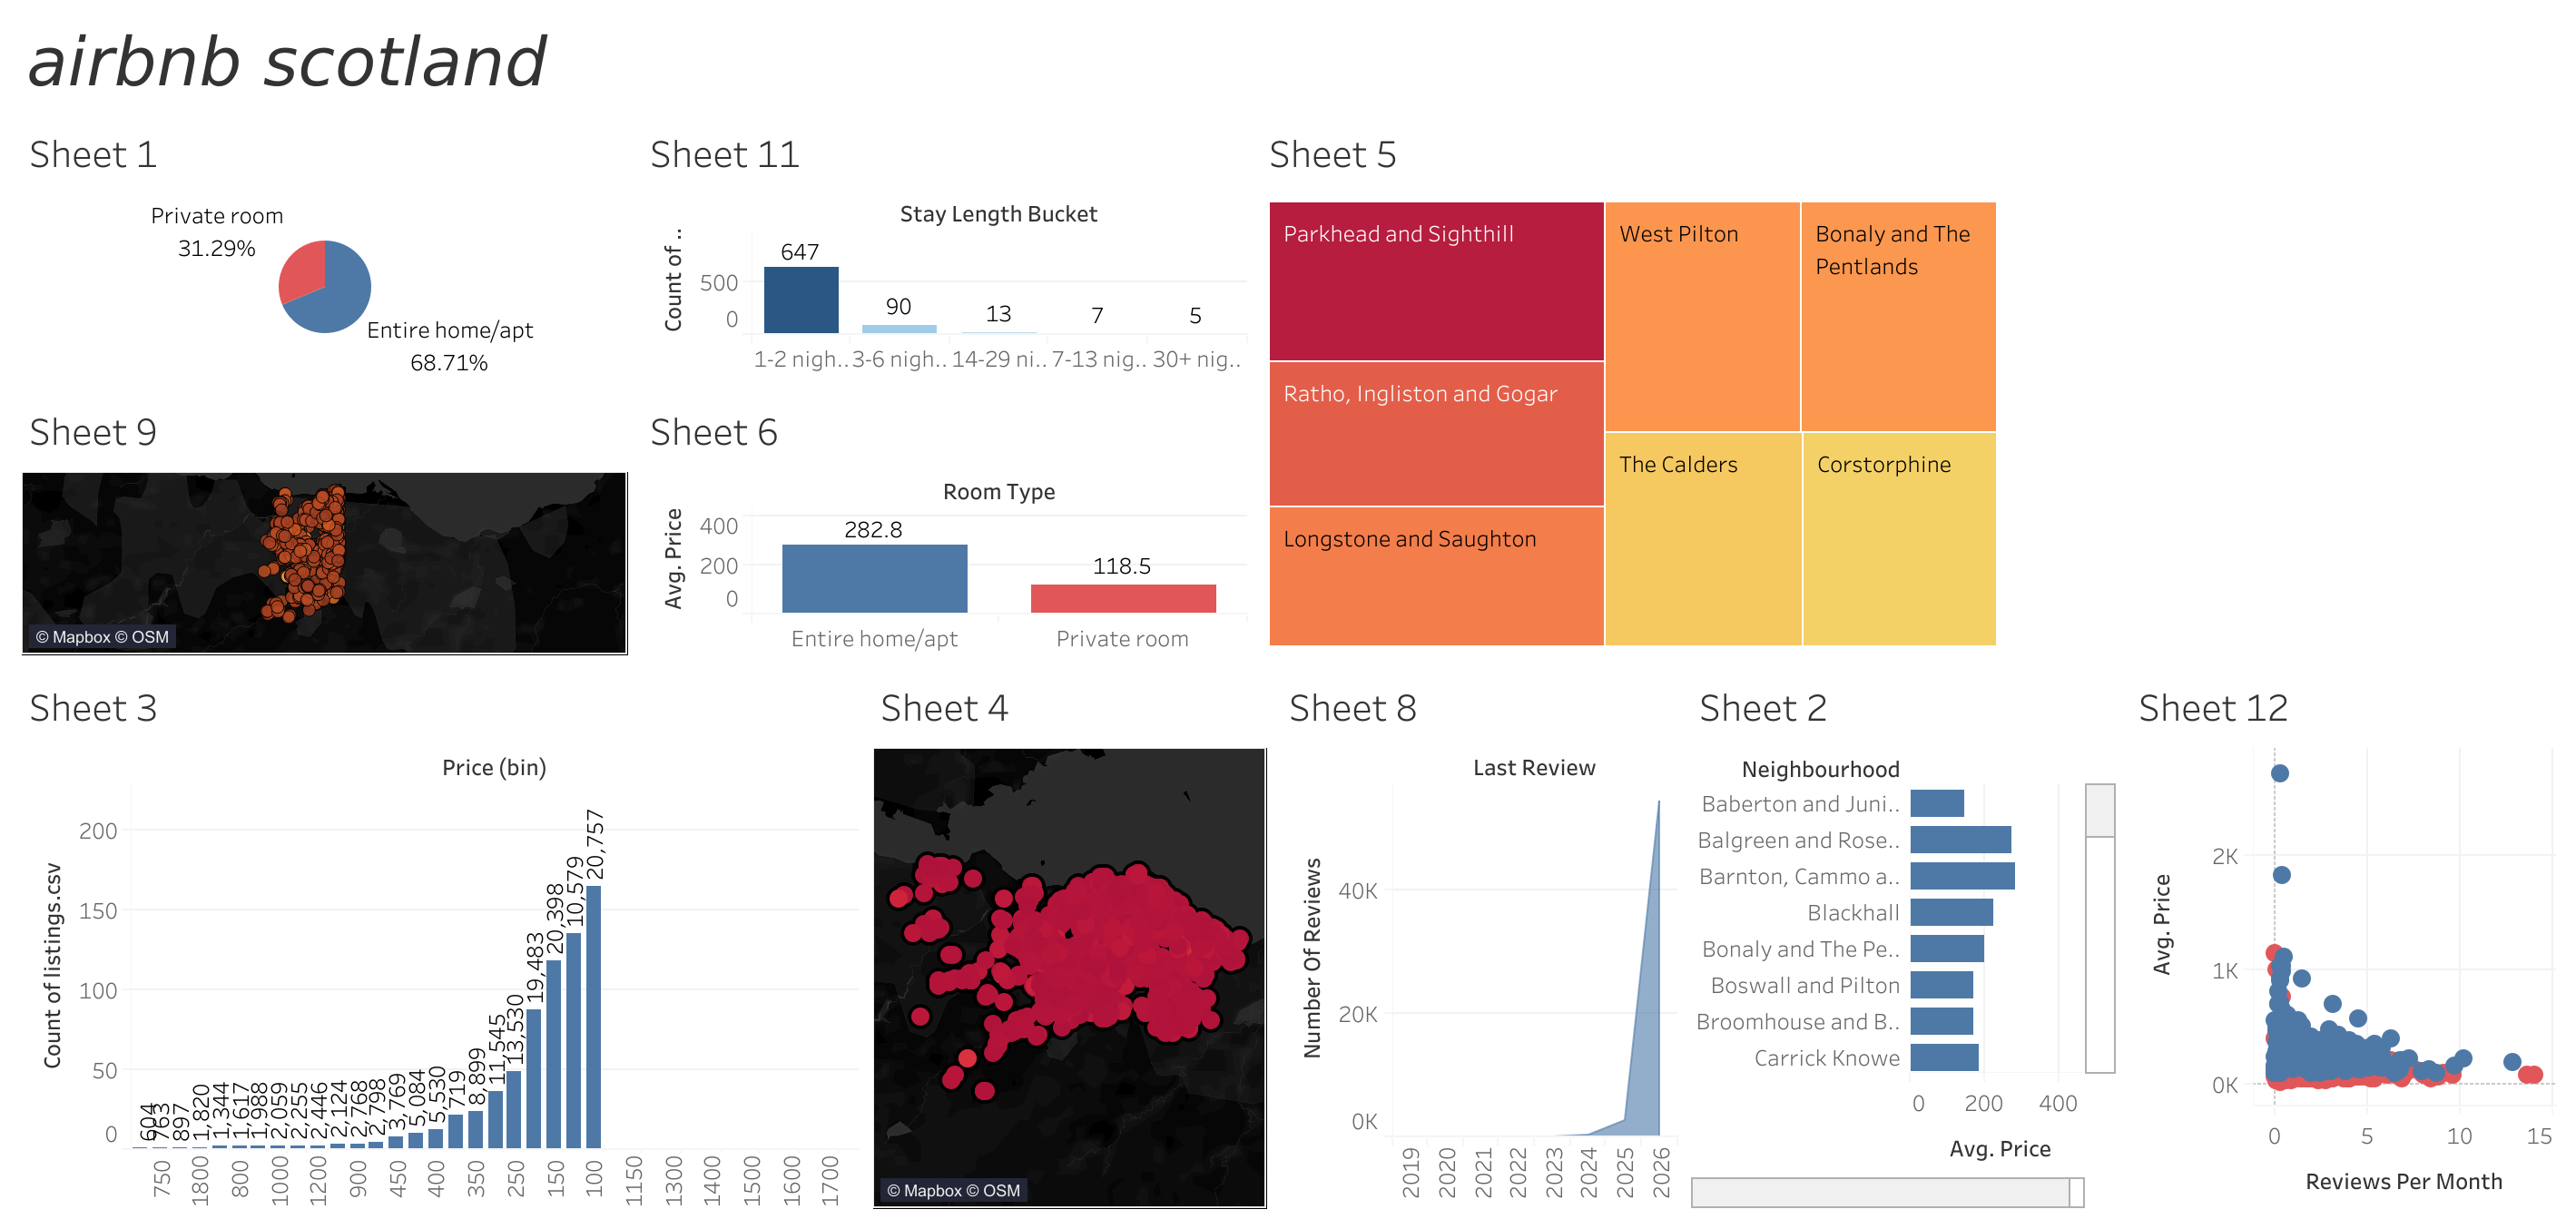

This screenshot's page, from the dashboard's own definition file:
{"tool":"tableau","page":{"name":"Dashboard 1","canvas":[1000,1000],"units":"permille","ordinal":0},"visuals":[{"type":"title","box":[6.3,11.2,987.3,76.9]},{"type":"worksheet","title":"Sheet 1","mark":"Pie","box":[6.3,88.1,240.2,225.5]},{"type":"worksheet","title":"Sheet 11","mark":"Bar","rows":["listings.csv_67D59B2A57524ACBAFB9F87328F039D5"],"cols":["Calculation_1489322259001354"],"box":[246.6,88.1,240.2,225.5]},{"type":"worksheet","title":"Sheet 5","mark":"Automatic","box":[486.8,88.1,506.9,451]},{"type":"worksheet","title":"Sheet 9","mark":"Multipolygon","rows":["latitude"],"cols":["longitude"],"box":[6.3,313.6,240.2,225.5]},{"type":"worksheet","title":"Sheet 6","mark":"Automatic","rows":["price"],"cols":["room_type"],"box":[246.6,313.6,240.2,225.5]},{"type":"worksheet","title":"Sheet 3","mark":"Bar","rows":["listings.csv_67D59B2A57524ACBAFB9F87328F039D5"],"cols":["Price (bin)"],"box":[6.3,539.1,329.7,449.7]},{"type":"worksheet","title":"Sheet 4","mark":"Circle","rows":["latitude"],"cols":["longitude"],"box":[336,539.1,158.5,449.7]},{"type":"worksheet","title":"Sheet 8","mark":"Area","rows":["number_of_reviews"],"cols":["last_review"],"box":[494.5,539.1,158.5,449.7]},{"type":"worksheet","title":"Sheet 2","mark":"Automatic","rows":["neighbourhood"],"cols":["price"],"box":[653,539.1,170.3,449.7]},{"type":"worksheet","title":"Sheet 12","mark":"Circle","rows":["price"],"cols":["reviews_per_month"],"box":[823.3,539.1,170.3,449.7]}]}

Visuals, with their boxes on the dashboard's canvas, which has no fixed pixel size, in thousandths of its width and height (x1, y1, x2, y2). These are canvas units, not pixel positions in the 2576x1229 screenshot, which may show the page scaled, cropped or inside an application window:
title: x1=6 y1=11 x2=994 y2=88
"Sheet 1" worksheet (Pie marks): x1=6 y1=88 x2=246 y2=314
"Sheet 11" worksheet (Bar marks): x1=247 y1=88 x2=487 y2=314
"Sheet 5" worksheet: x1=487 y1=88 x2=994 y2=539
"Sheet 9" worksheet (Multipolygon marks): x1=6 y1=314 x2=246 y2=539
"Sheet 6" worksheet: x1=247 y1=314 x2=487 y2=539
"Sheet 3" worksheet (Bar marks): x1=6 y1=539 x2=336 y2=989
"Sheet 4" worksheet (Circle marks): x1=336 y1=539 x2=494 y2=989
"Sheet 8" worksheet (Area marks): x1=494 y1=539 x2=653 y2=989
"Sheet 2" worksheet: x1=653 y1=539 x2=823 y2=989
"Sheet 12" worksheet (Circle marks): x1=823 y1=539 x2=994 y2=989
